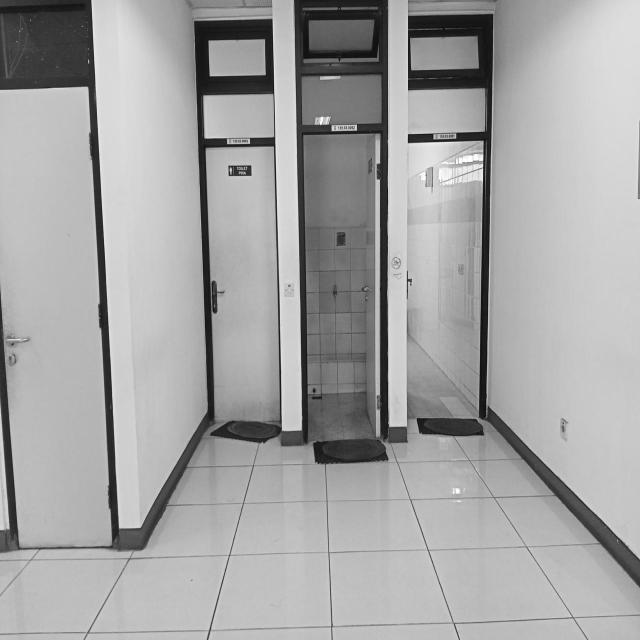door: (197, 134, 286, 432)
